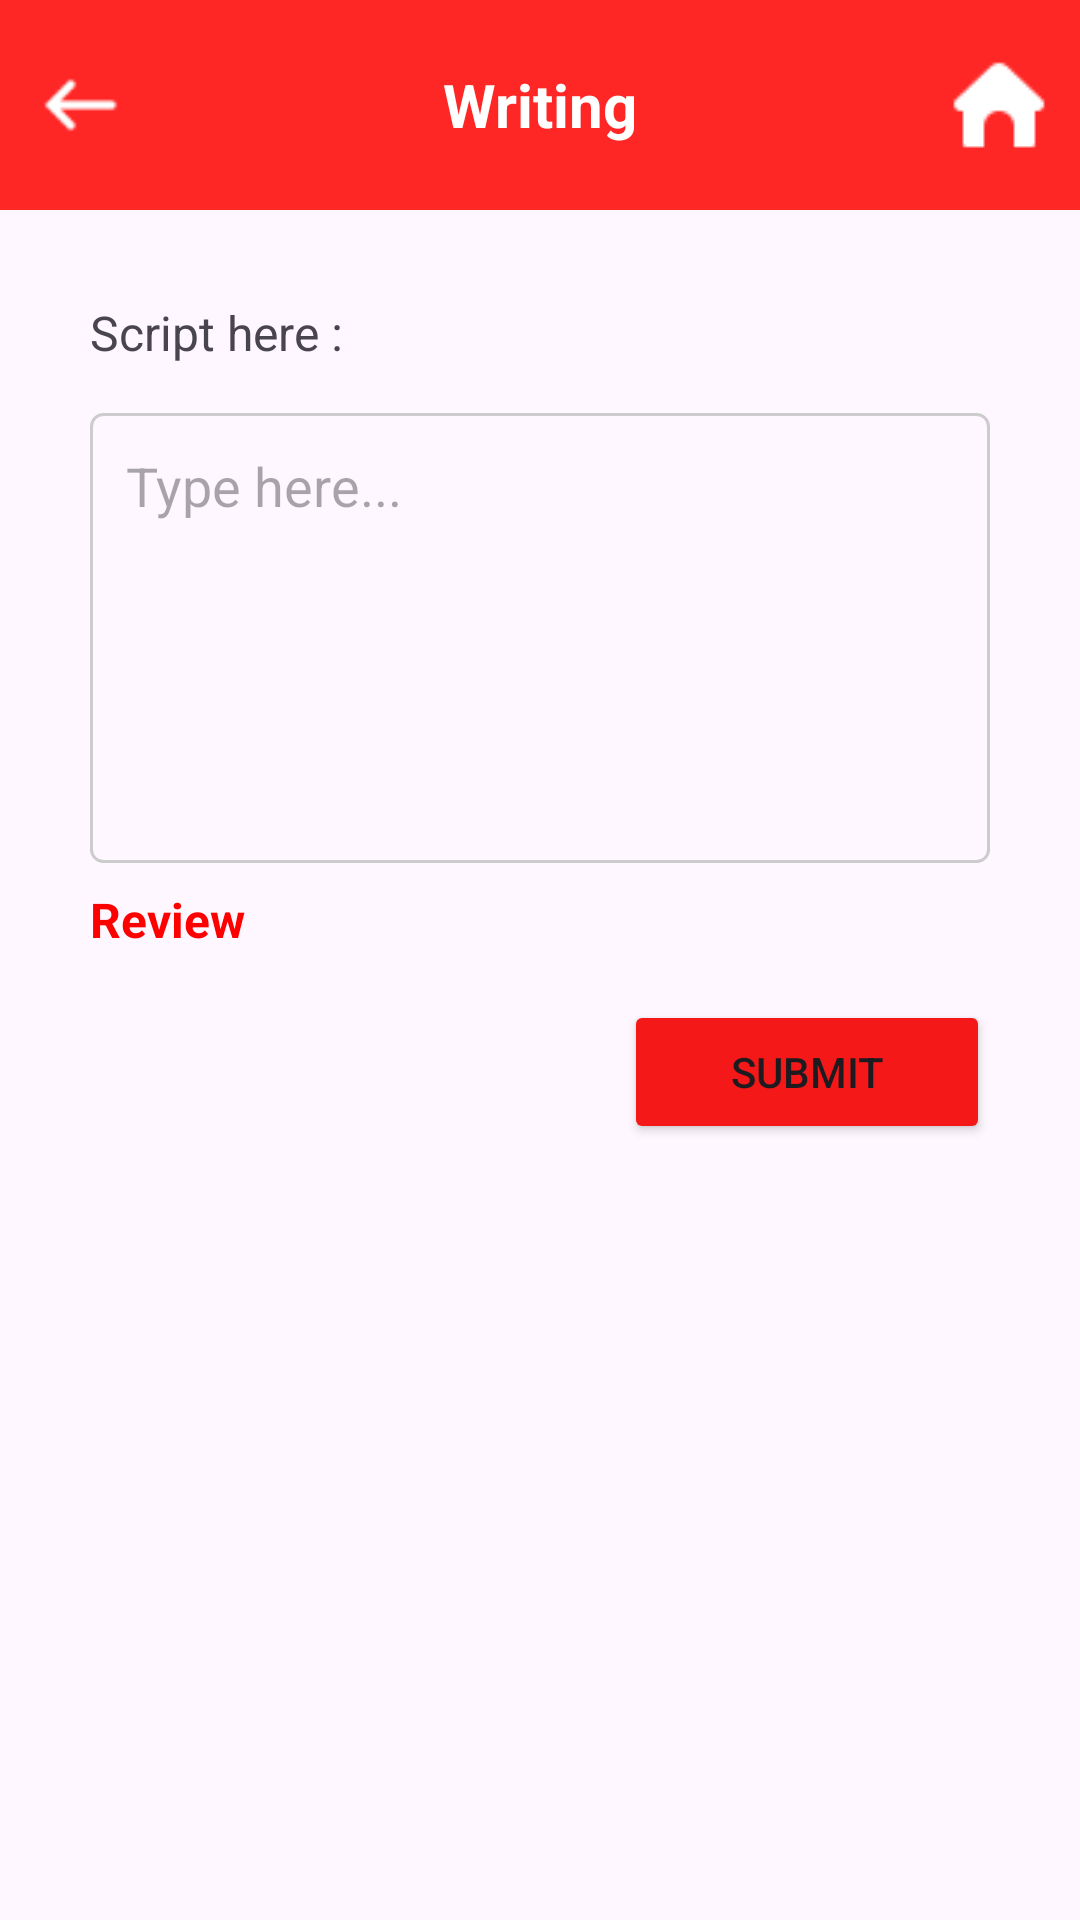

Icons on this 1080 × 1920 Android screen, each with the point to tap as (x,y):
backward: (80,105)
home: (999,105)
